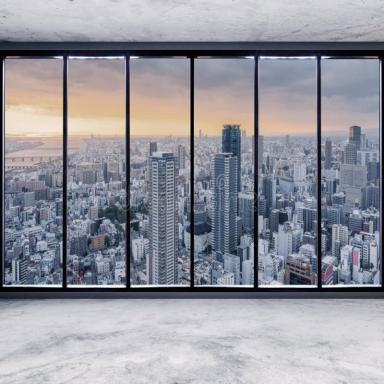glass_panel: (130, 57, 190, 285), (195, 58, 255, 285), (322, 58, 380, 284), (5, 58, 63, 284), (260, 57, 317, 285), (68, 58, 125, 284)
